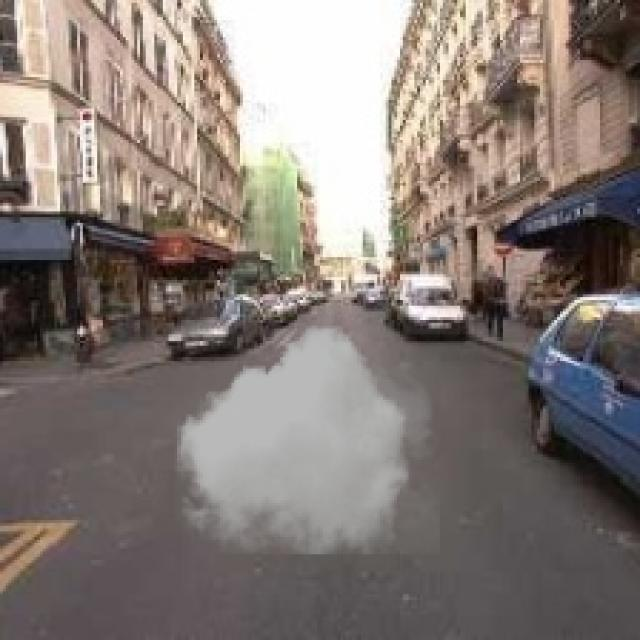Smoke: (171, 326, 440, 554)
